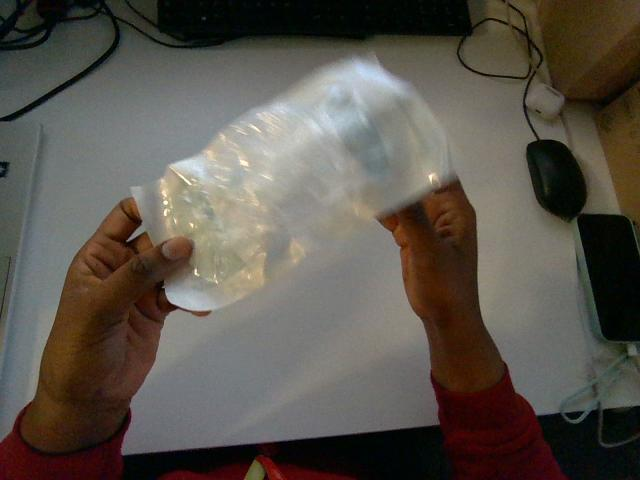gallipot: (132, 58, 454, 309)
